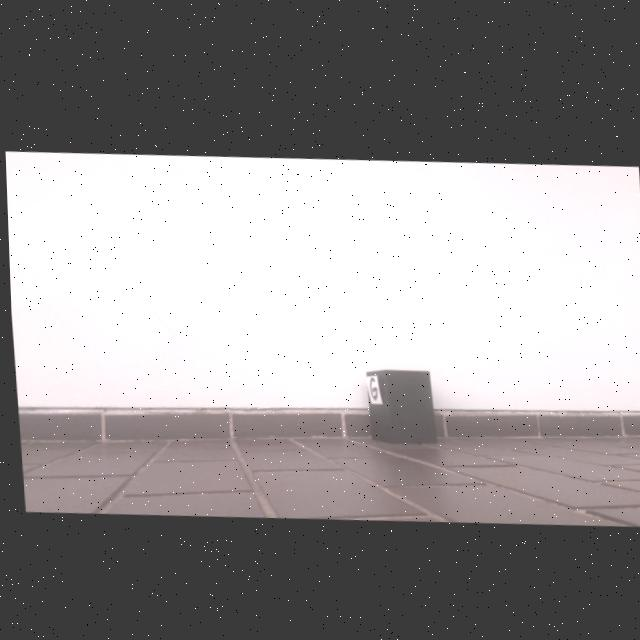G: (367, 373, 375, 394)
